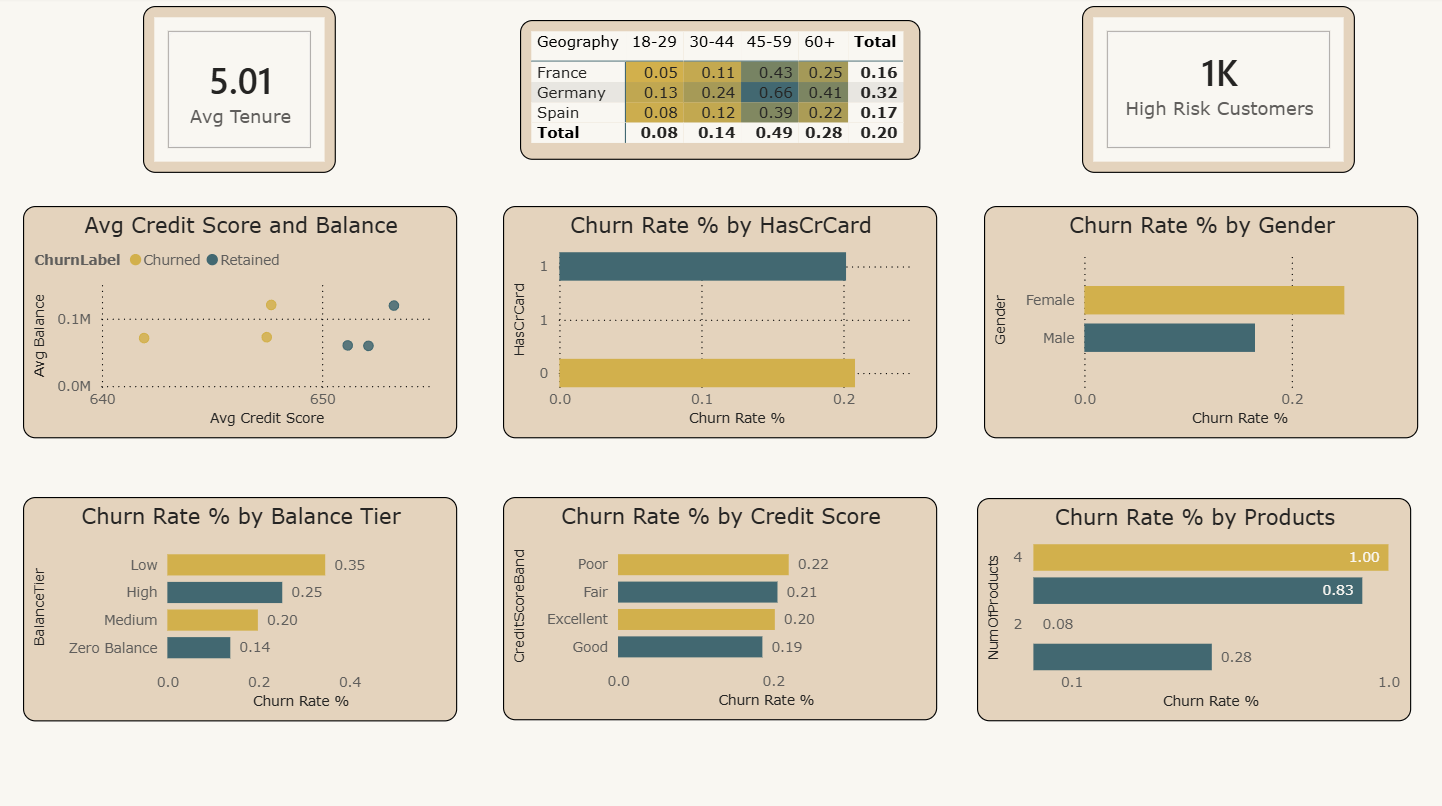

Layout of this report page (visuals, bound fields, positions):
{"tool":"powerbi","page":{"name":"Customer Segmentation","canvas":[1280,720],"ordinal":1},"visuals":[{"type":"pivotTable","fields":{"Rows":["Churn_Modelling.Geography"],"Columns":["Churn_Modelling.Group_Age"],"Values":["_Measures.Churn Rate %"]},"box":[783,17.7,460.2,138.3],"z":0},{"type":"clusteredBarChart","title":"Churn Rate % by Credit Score","fields":{"Y":["_Measures.Churn Rate %"],"Category":["Churn_Modelling.CreditScoreBand"]},"box":[447.8,443.3,384.8,197.7],"z":1000},{"type":"clusteredBarChart","title":"Churn Rate % by Balance Tier","fields":{"Category":["Churn_Modelling.BalanceTier"],"Y":["_Measures.Churn Rate %"]},"box":[22.2,443.3,384.8,198.6],"z":2000},{"type":"clusteredBarChart","title":"Churn Rate % by Products","fields":{"Category":["Churn_Modelling.NumOfProducts"],"Y":["_Measures.Churn Rate %"]},"box":[868.1,444.2,384.8,197.7],"z":2001},{"type":"scatterChart","title":"Avg Credit Score and Balance","fields":{"X":["_Measures.Avg Credit Score"],"Y":["_Measures.Avg Balance"],"Series":["Churn_Modelling.ChurnLabel"],"Category":["Churn_Modelling.Geography"]},"box":[22.2,185.3,384.8,205.7],"z":2002},{"type":"clusteredBarChart","fields":{"Category":["Churn_Modelling.HasCrCard"],"Y":["_Measures.Churn Rate %"]},"box":[447.8,185.3,384.8,205.7],"z":2003},{"type":"clusteredBarChart","fields":{"Y":["_Measures.Churn Rate %"],"Category":["Churn_Modelling.Gender"]},"box":[874.3,185.3,384.8,205.7],"z":2004},{"type":"cardVisual","fields":{"Data":["_Measures.Avg Tenure"]},"box":[78,8,171.1,148.1],"z":2005},{"type":"cardVisual","fields":{"Data":["_Measures.Churned Customers"]},"box":[347.6,8,245.6,148.1],"z":2006}]}

Visuals, with their boxes in screenshot pixels (x1, y1, x2, y2), scaled from the page's 1280x720 canvas onto the 1442x806 screenshot:
pivotTable - Churn_Modelling.Geography x Churn_Modelling.Group_Age: crop(882, 20, 1401, 175)
"Churn Rate % by Credit Score" clusteredBarChart: crop(504, 496, 938, 718)
"Churn Rate % by Balance Tier" clusteredBarChart: crop(25, 496, 459, 719)
"Churn Rate % by Products" clusteredBarChart: crop(978, 497, 1411, 719)
"Avg Credit Score and Balance" scatterChart: crop(25, 207, 459, 438)
clusteredBarChart - Churn_Modelling.HasCrCard x _Measures.Churn Rate %: crop(504, 207, 938, 438)
clusteredBarChart - _Measures.Churn Rate % x Churn_Modelling.Gender: crop(985, 207, 1418, 438)
cardVisual - _Measures.Avg Tenure: crop(88, 9, 281, 175)
cardVisual - _Measures.Churned Customers: crop(392, 9, 668, 175)
